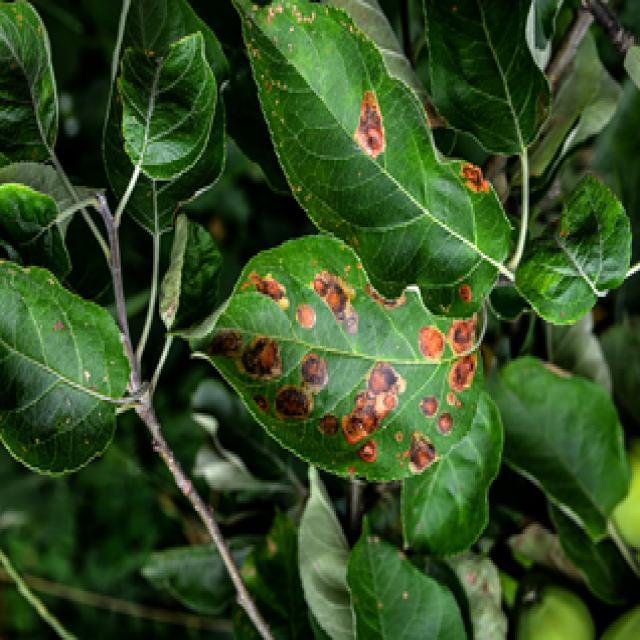Bacterial_Spot: (206, 44, 520, 483)
